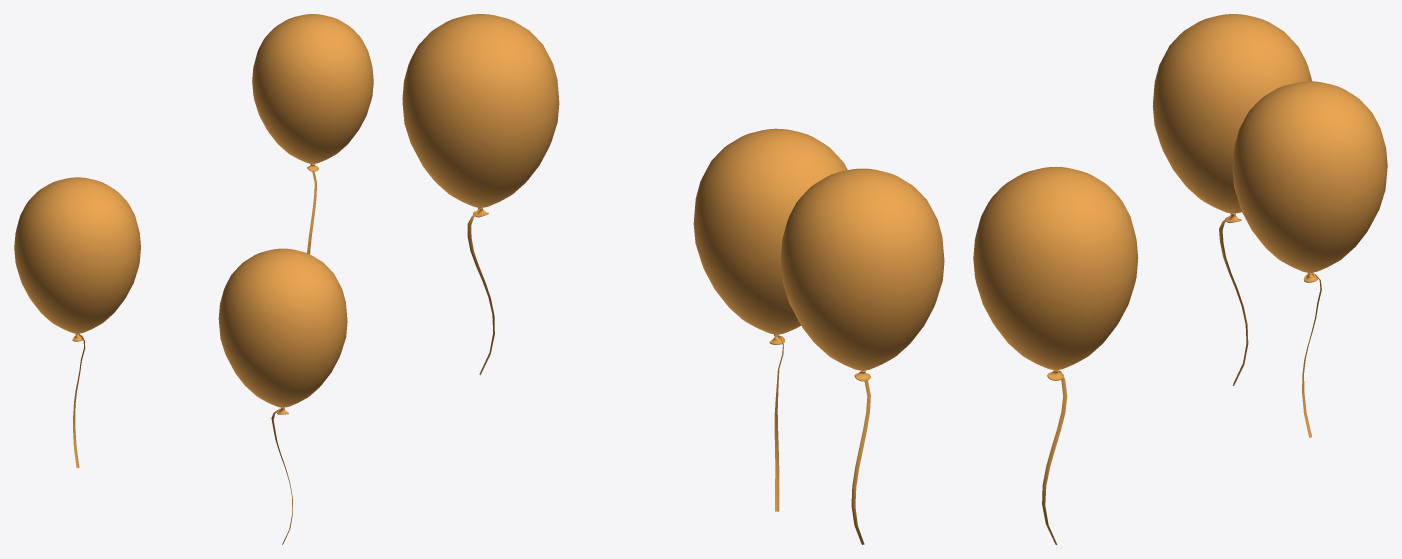
File: baloons.glb
The picture shows the model from 3 angles, left to right: view 1: azimuth 30°, elevation 25°; view 2: azimuth 150°, elevation 25°; view 3: azimuth 270°, elevation 25°; orthographic projection. The views are drawn at different scales.
Parts seen in each view (by area): view 1: BALLOON, BALLOON.002, BALLOON.001; view 2: BALLOON.002, BALLOON.001, BALLOON; view 3: BALLOON, BALLOON.001, BALLOON.002.
Part boxes in pixels (box(x1,y1,x2,y2)): BALLOON: box(218, 248, 347, 544); BALLOON.002: box(14, 177, 140, 468); BALLOON.001: box(252, 14, 373, 254); BALLOON.002: box(780, 168, 944, 544); BALLOON.001: box(402, 14, 559, 374); BALLOON: box(693, 128, 847, 511); BALLOON: box(973, 167, 1138, 544); BALLOON.001: box(1232, 81, 1387, 437); BALLOON.002: box(1152, 14, 1311, 385).
Size of the model in its own units: 0.7302 by 0.7874 by 0.5506.
